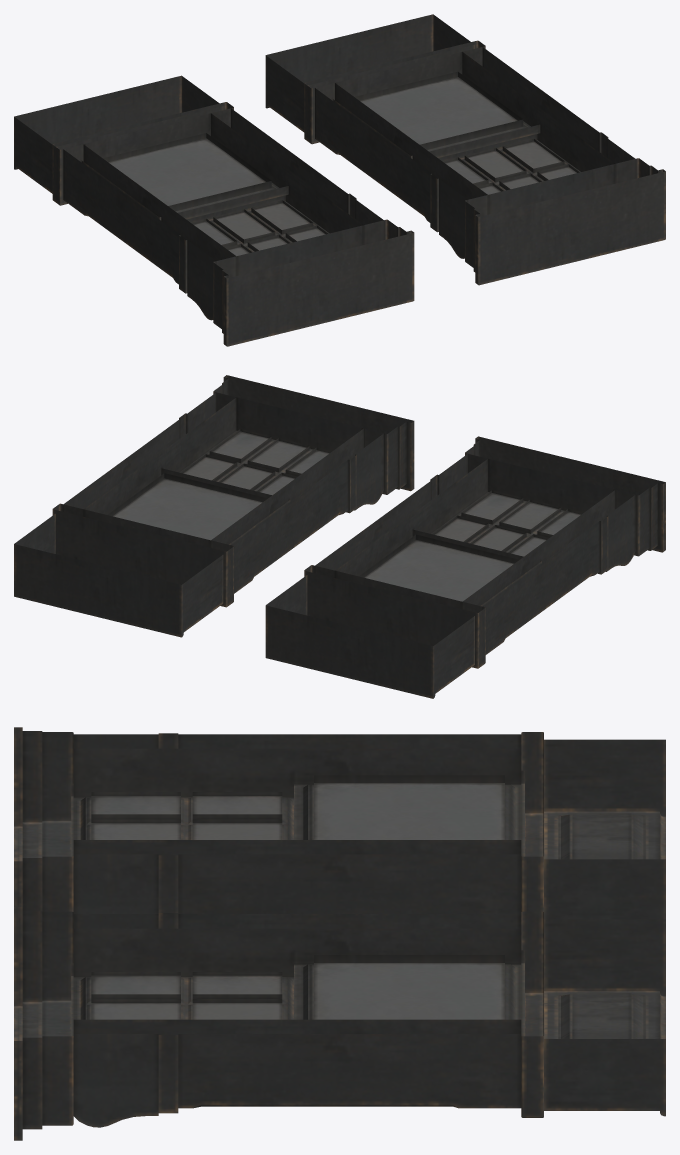
File: window_centered_double_01.gltf
3 renders of one model, top to bottom at view 1: azimuth 30°, elevation 25°; view 2: azimuth 150°, elevation 25°; view 3: azimuth 270°, elevation 25°, orthographic. The views are drawn at different scales.
Visible parts, largest first — view 1: window_centered_double_01; view 2: window_centered_double_01; view 3: window_centered_double_01.
Part boxes in pixels (x1,y1,x2,y2): window_centered_double_01: (14,14,665,346); window_centered_double_01: (14,375,665,698); window_centered_double_01: (14,727,665,1140).
Size of the model in its own units: 2.62 by 0.39 by 2.3.
2 materials, 2 textured.
